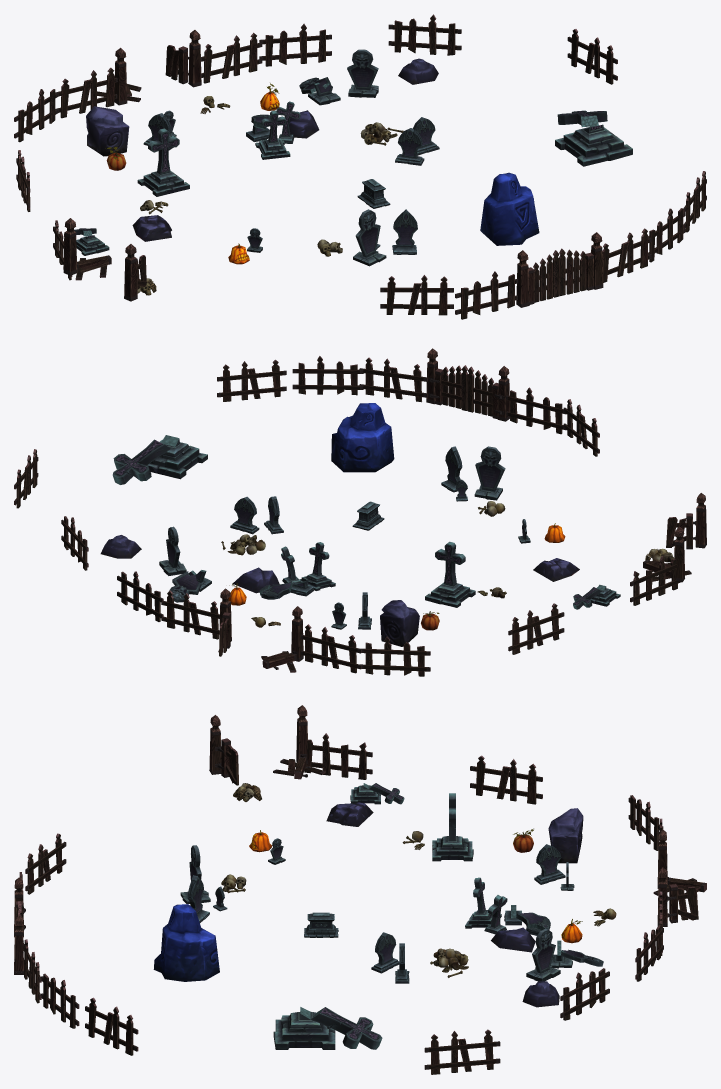
The picture shows the model from 3 angles, top to bottom: view 1: azimuth 30°, elevation 25°; view 2: azimuth 150°, elevation 25°; view 3: azimuth 270°, elevation 25°; orthographic projection. The views are drawn at different scales.
Visible parts, largest first — view 1: rock_01, gravestone_02 (1), gate_02, gate_02 (1), rock_03, gravestone_01, fence_tile_05 (3), fence_tile_04 (4), fence_tile_04 (3), fence_tile_05, gate_01c, fence_tile_05 (1) (+23 smaller); view 2: rock_01, gravestone_02 (1), gate_02 (1), gate_02, gravestone_01, fence_tile_05 (6), rock_03, fence_tile_05 (4), fence_tile_04, fence_tile_04 (2), fence_tile_05 (1), fence_tile_05 (+23 smaller); view 3: rock_01, gravestone_02 (1), gate_02 (1), gate_02, fence_tile_05 (5), fence_tile_05 (2), rock_03, fence_tile_03, fence_tile_05 (6), gravestone_01, fence_tile_04 (4), fence_tile_05 (3) (+17 smaller).
Boxes of the visible parts, x1,y1,x2,y2 form: rock_01: (480, 172, 539, 245); gravestone_02 (1): (555, 110, 632, 166); gate_02: (97, 30, 201, 105); gate_02 (1): (63, 218, 146, 301); rock_03: (86, 106, 129, 156); gravestone_01: (137, 128, 189, 196); fence_tile_05 (3): (380, 275, 453, 315); fence_tile_04 (4): (388, 14, 461, 55); fence_tile_04 (3): (259, 23, 331, 66); fence_tile_05: (201, 32, 262, 83); gate_01c: (559, 248, 593, 295); fence_tile_05 (1): (55, 67, 117, 118); rock_01: (331, 403, 394, 472); gravestone_02 (1): (112, 435, 207, 484); gate_02 (1): (643, 493, 706, 582); gate_02: (218, 588, 303, 672); gravestone_01: (425, 541, 475, 607); fence_tile_05 (6): (217, 359, 286, 401); rock_03: (380, 600, 419, 646); fence_tile_05 (4): (359, 357, 427, 402); fence_tile_04: (359, 636, 430, 676); fence_tile_04 (2): (292, 356, 363, 395); fence_tile_05 (1): (301, 624, 361, 673); fence_tile_05: (161, 590, 219, 639); rock_01: (153, 904, 219, 981); gravestone_02 (1): (273, 1007, 382, 1049); gate_02 (1): (209, 705, 325, 785); gate_02: (653, 829, 706, 926); fence_tile_05 (5): (424, 1029, 500, 1074); fence_tile_05 (2): (470, 755, 542, 804); rock_03: (548, 808, 583, 863); fence_tile_03: (304, 733, 372, 779); fence_tile_05 (6): (85, 997, 138, 1055); gravestone_01: (432, 793, 473, 861); fence_tile_04 (4): (560, 968, 609, 1020); fence_tile_05 (3): (25, 833, 66, 894).
Bounding box in the file's own units: 19.2 × 2.08 × 18.03.
4 materials, 4 textured.
